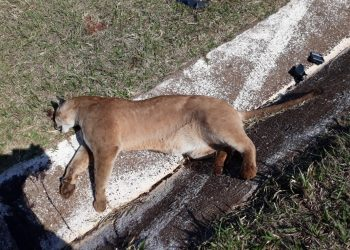OncaParda: (47, 86, 326, 213)
